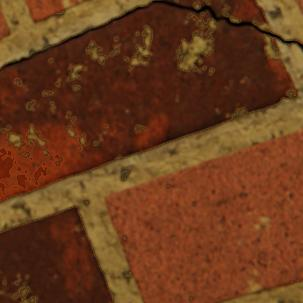brick: (104, 129, 302, 302), (0, 205, 113, 302), (25, 0, 86, 22), (0, 7, 10, 39), (294, 0, 302, 16)
broken_brick: (0, 3, 296, 200), (161, 0, 270, 31)
crack: (0, 0, 302, 69)
